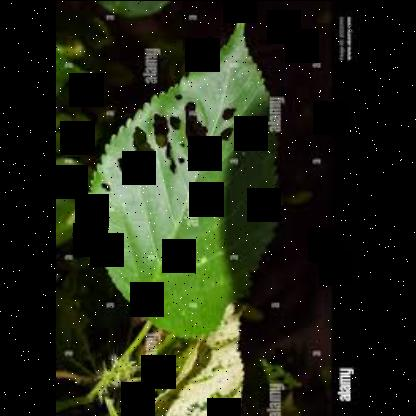agujero: (186, 96, 206, 162), (132, 125, 154, 159), (154, 110, 170, 146), (166, 139, 176, 173), (219, 123, 234, 143), (221, 103, 238, 120), (102, 174, 114, 192), (169, 115, 181, 132), (114, 157, 126, 171), (176, 140, 186, 148), (176, 90, 182, 102), (178, 154, 184, 164)
